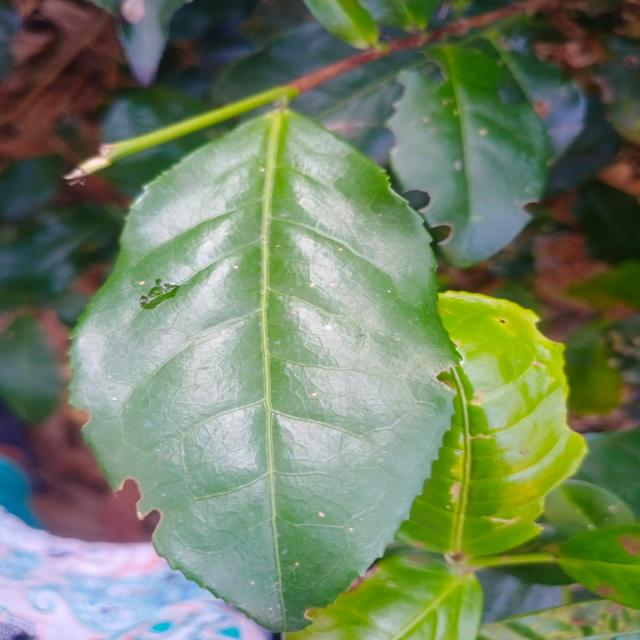Category D(7+ days, Not for Tea): (44, 89, 467, 640)
